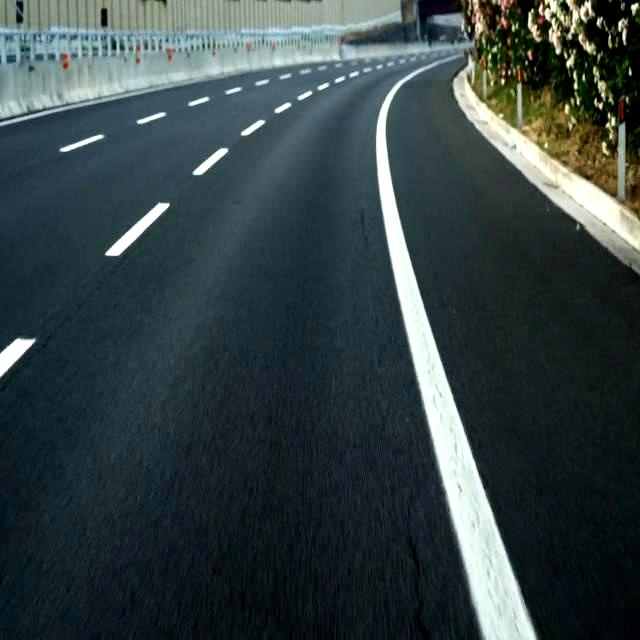lane: (376, 58, 535, 639), (106, 203, 168, 255), (1, 339, 34, 375), (193, 149, 227, 174), (60, 135, 103, 151), (241, 120, 265, 135)
road: (1, 61, 482, 639), (389, 60, 639, 639)
